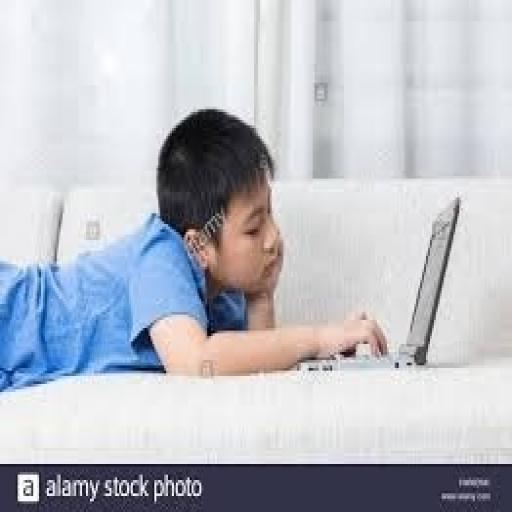using_laptop: (295, 192, 463, 373)
